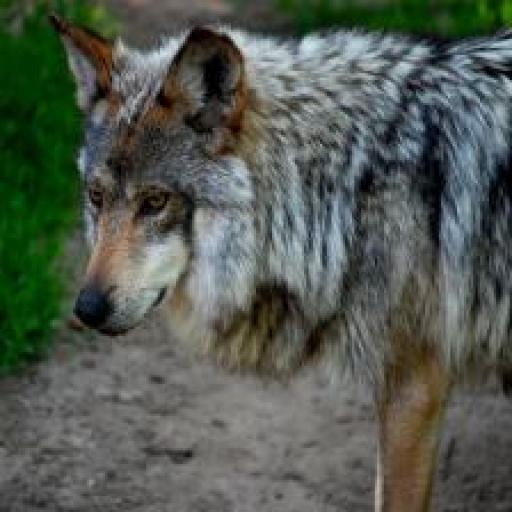wolf: (36, 2, 512, 511)
